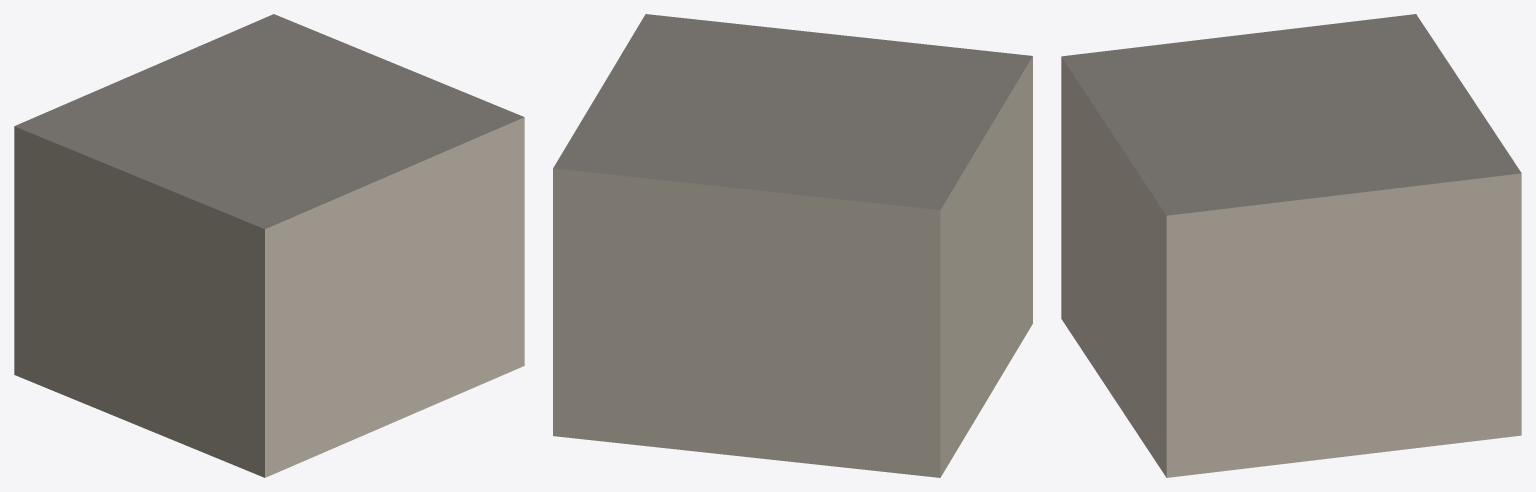
3 renders of one model, left to right at view 1: azimuth 30°, elevation 25°; view 2: azimuth 150°, elevation 25°; view 3: azimuth 270°, elevation 25°, orthographic. The views are drawn at different scales.
Visible parts, largest first — view 1: HP-w859447883; view 2: HP-w859447883; view 3: HP-w859447883.
Boxes of the visible parts, left/top/right/bottom form: HP-w859447883: left=14, top=14, right=524, bottom=477; HP-w859447883: left=553, top=14, right=1032, bottom=477; HP-w859447883: left=1061, top=14, right=1521, bottom=477.
Size of the model in its own units: 24.75 by 15 by 23.88.
